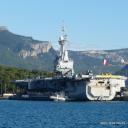Portanaves: (9, 17, 128, 104)
